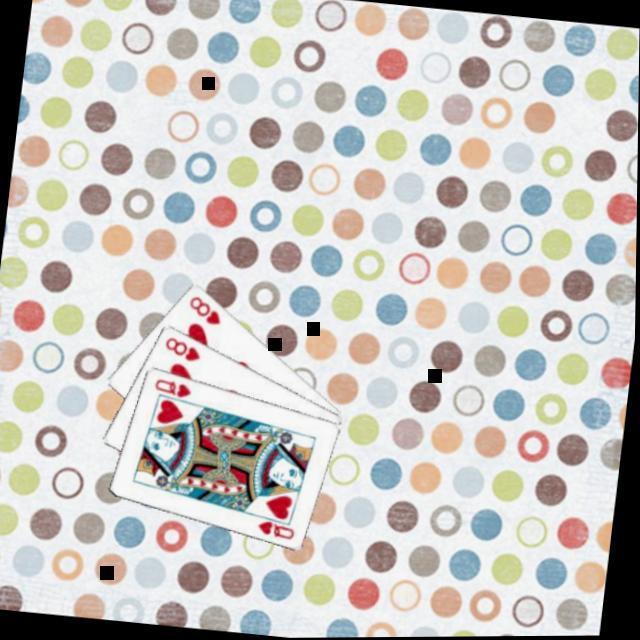8H: (184, 290, 226, 326), (160, 330, 205, 362)
QH: (250, 508, 299, 540), (150, 373, 195, 399)
